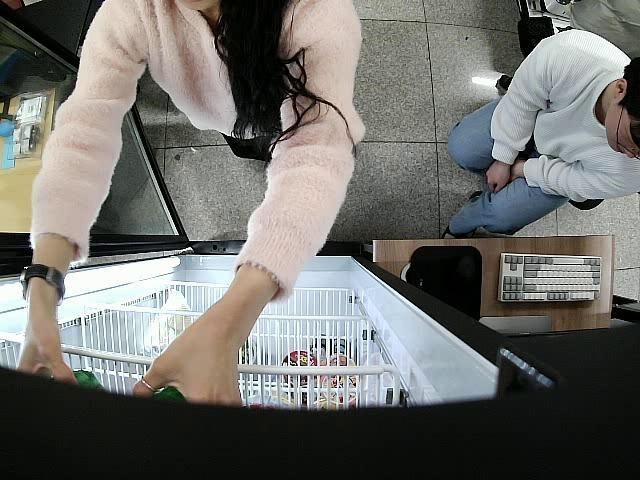18_trevi: (36, 365, 108, 392)
